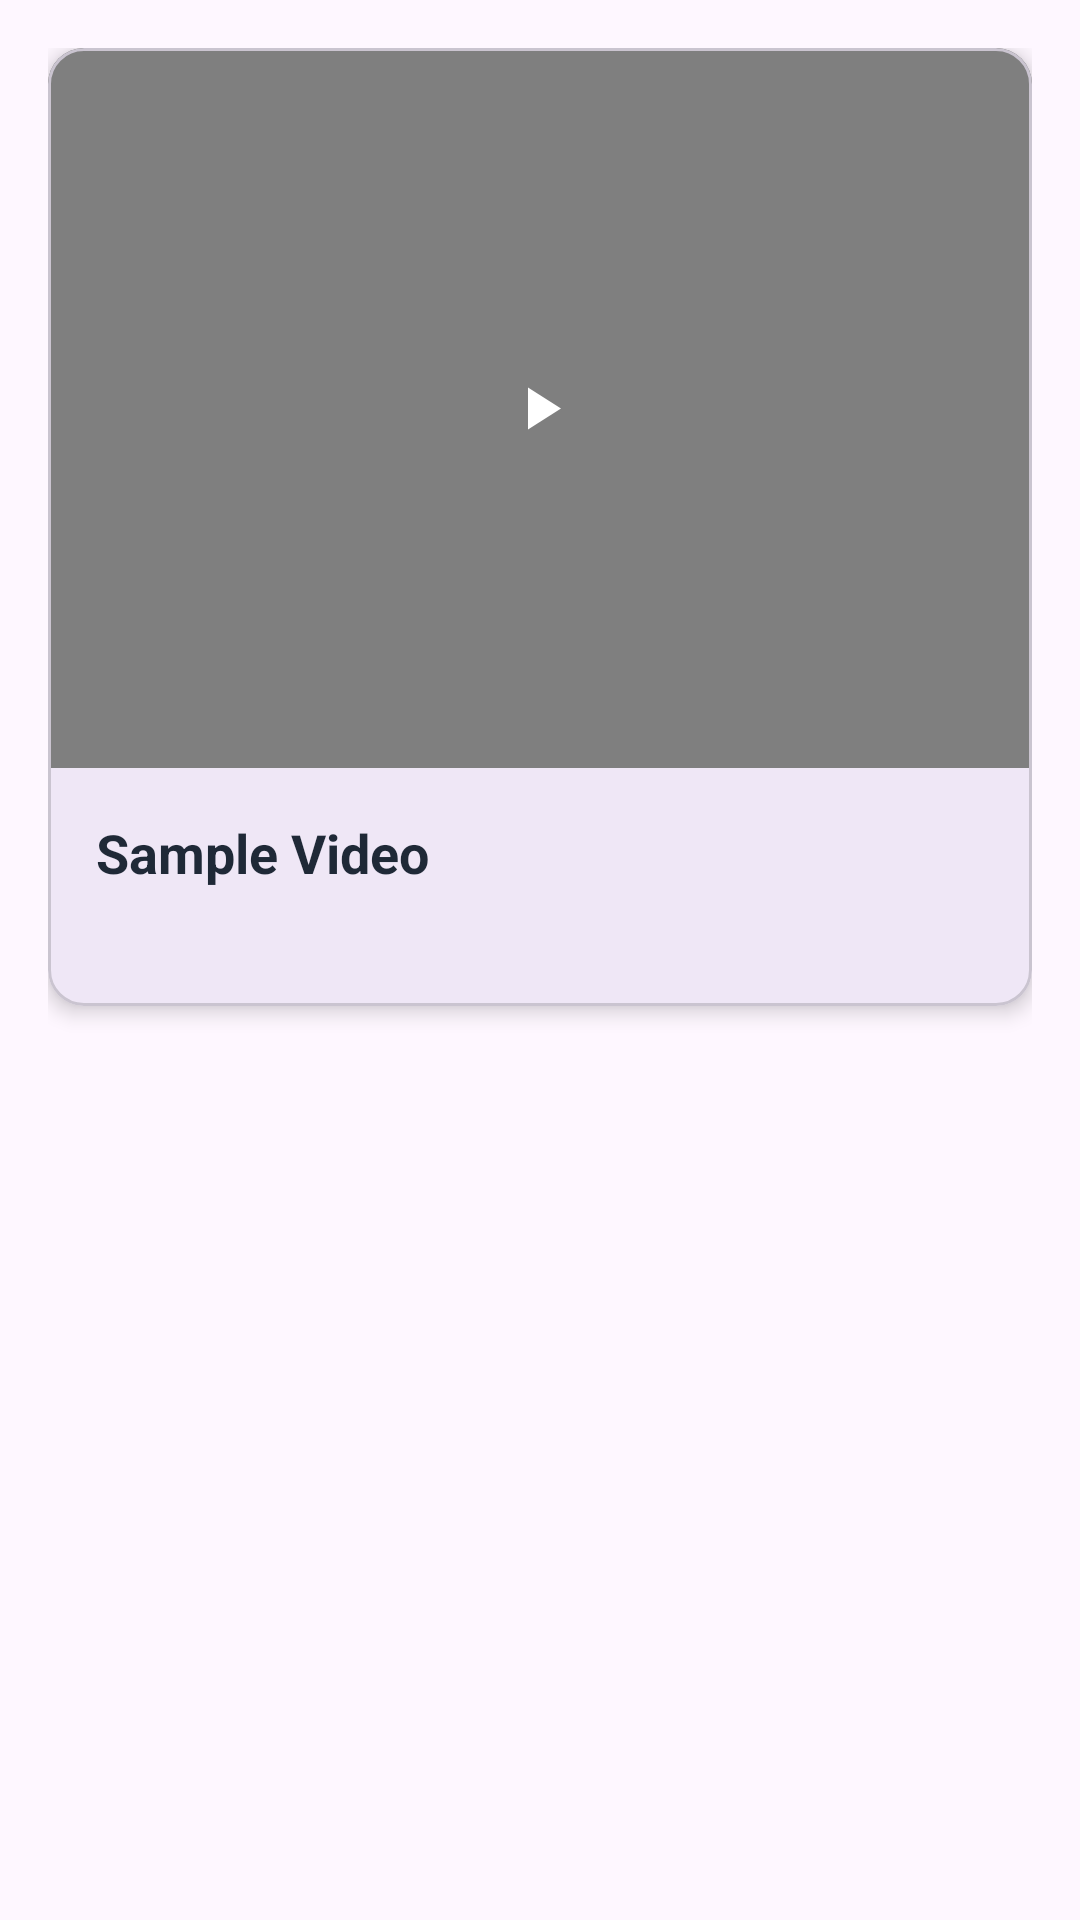

Named icons in this screenshot (1080x1920) and their centers, [x,y]:
play: [544,408]
